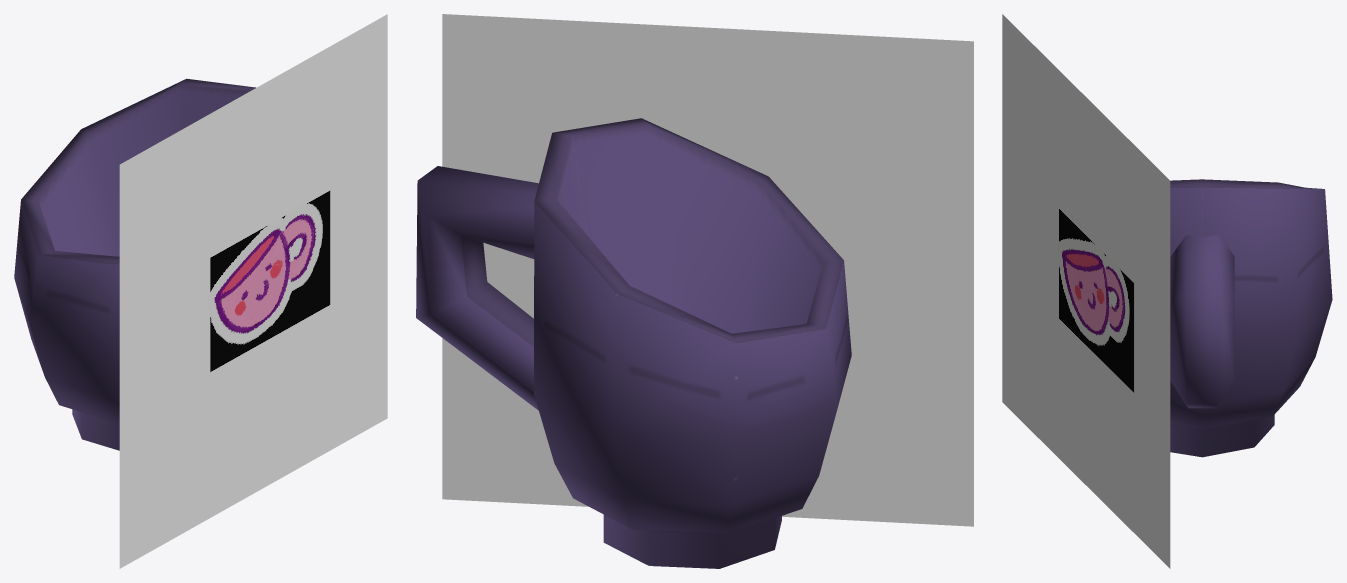
Rendered from TAZA.fbx.
The picture shows the model from 3 angles, left to right: view 1: azimuth 30°, elevation 25°; view 2: azimuth 150°, elevation 25°; view 3: azimuth 270°, elevation 25°; orthographic projection. The views are drawn at different scales.
Parts seen in each view (by area): view 1: Plane.001, TAZA; view 2: Plane.001, TAZA; view 3: Plane.001, TAZA.
Boxes of the visible parts, x1,y1,x2,y2 form: Plane.001: (119, 14, 387, 568); TAZA: (14, 78, 255, 450); Plane.001: (442, 14, 973, 526); TAZA: (416, 118, 851, 568); Plane.001: (1002, 14, 1170, 568); TAZA: (1170, 179, 1332, 457).
Bounding box in the file's own units: 94.89 × 103 × 79.45.
2 materials, 2 textured.
